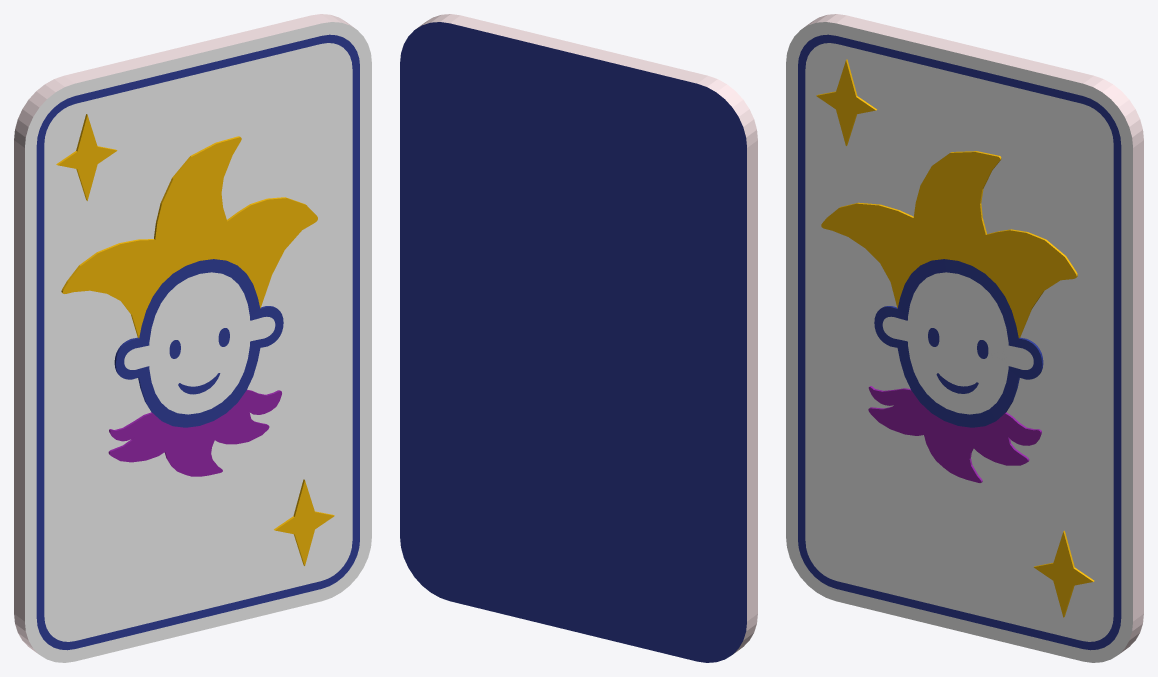
The model's file is joker.glb.
3 renders of one model, left to right at view 1: azimuth 30°, elevation 25°; view 2: azimuth 150°, elevation 25°; view 3: azimuth 330°, elevation 25°, orthographic.
Parts seen in each view (by area): view 1: Plane.316; view 2: Plane.316; view 3: Plane.316.
Boxes of the visible parts, <box> form: Plane.316: <box>14,14,371,662</box>; Plane.316: <box>400,14,757,662</box>; Plane.316: <box>786,14,1143,662</box>.
Bounding box in the file's own units: 1.49 × 2.36 × 0.0905.
Materials: 1 (1 with a texture image).
